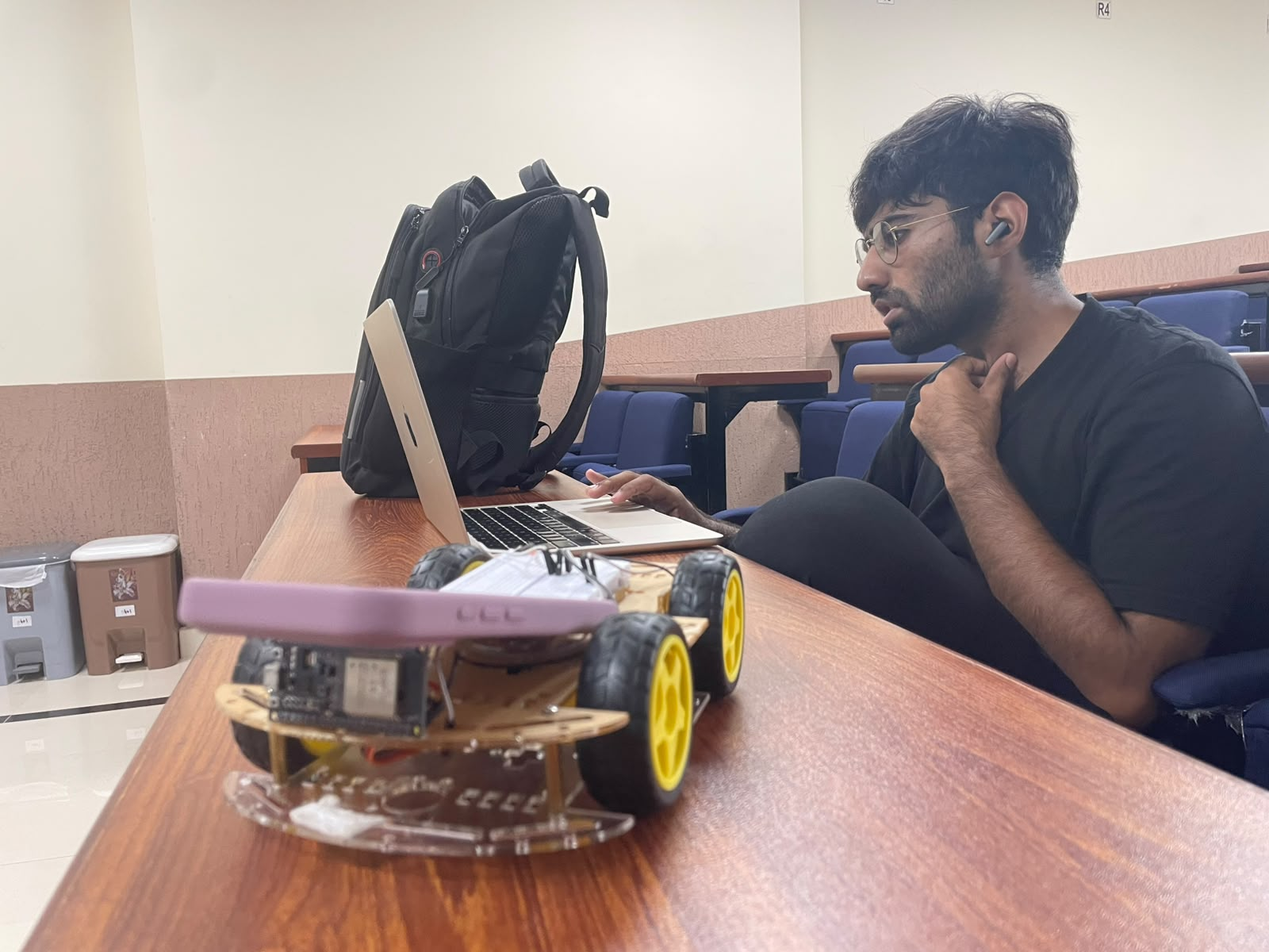Rover-detection: (178, 545, 746, 855)
